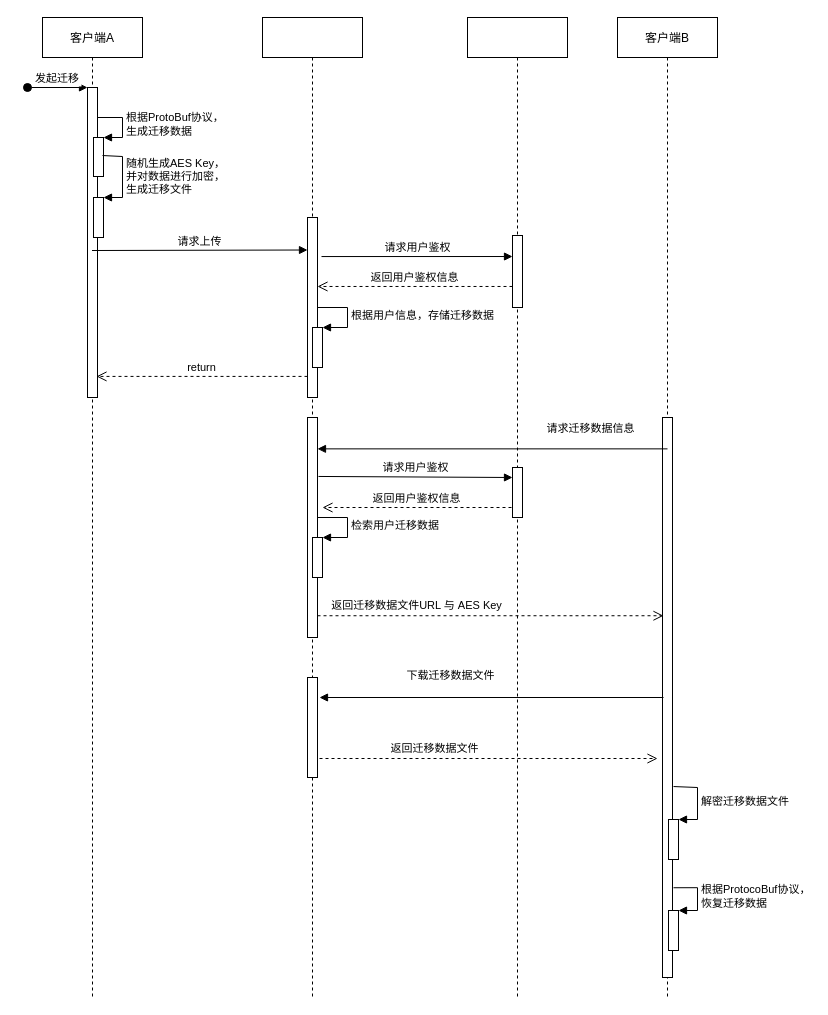
Some shapes in this 828 by 1015 pixel diagram are drawn without their labels. The shapes that lost their labels are listed below. From the top down, each one's centre as x and y in pixels, then its label:
[312,507]: 数据迁移服务
[517,507]: IMWeb
